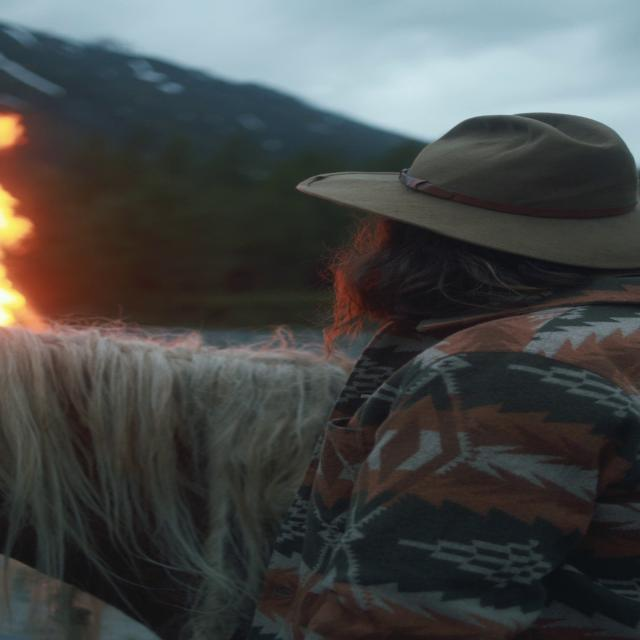Fire: (0, 97, 52, 333)
